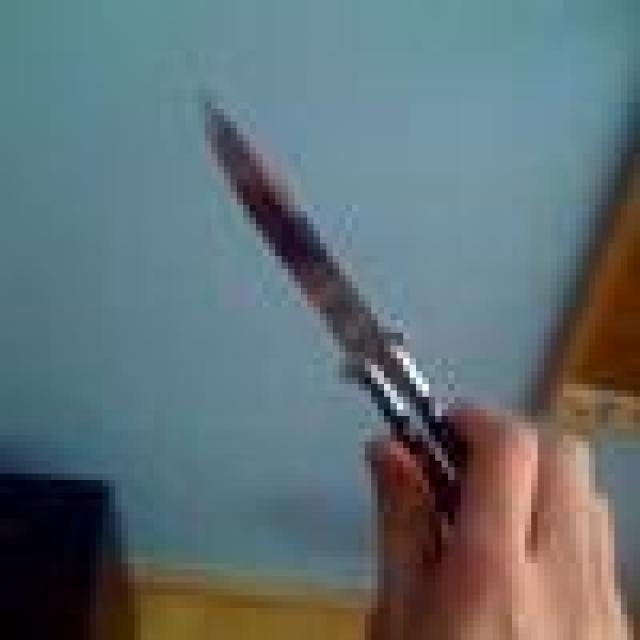faca: (172, 64, 634, 640)
